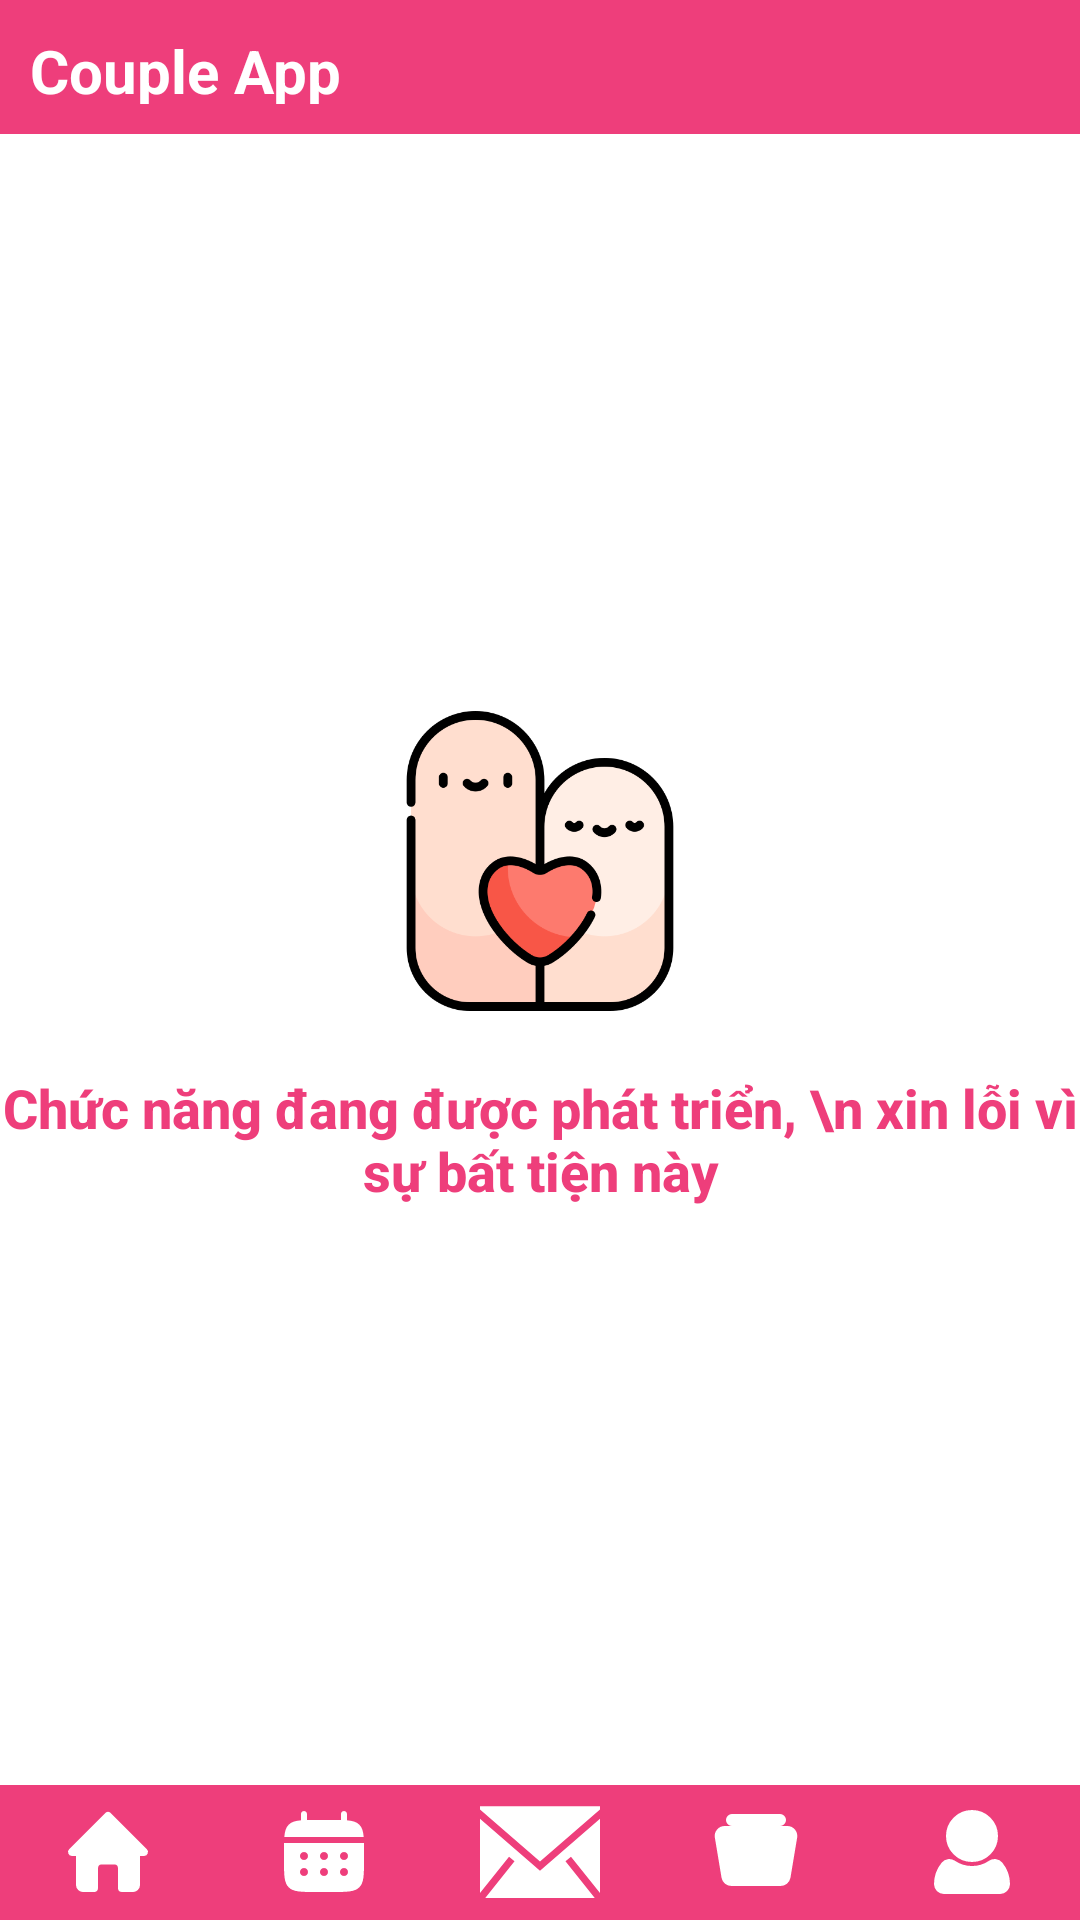

Locate icon controls on the screen. Image size 1080×1920, boxes as (x1, y1, x2, y2).
calendar: (284, 1811, 364, 1892)
home: (68, 1812, 148, 1892)
message: (480, 1806, 600, 1898)
